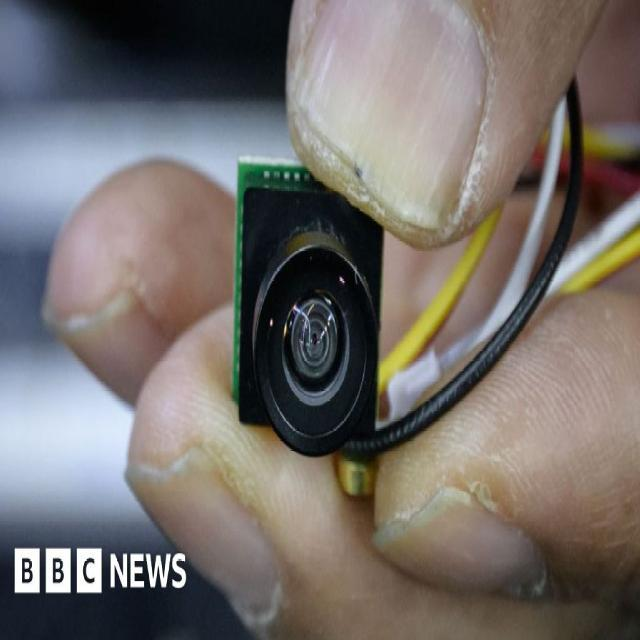hidden camera: (286, 289, 355, 405)
